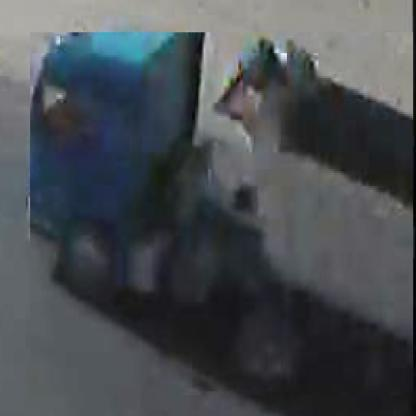container: (31, 33, 416, 394)
